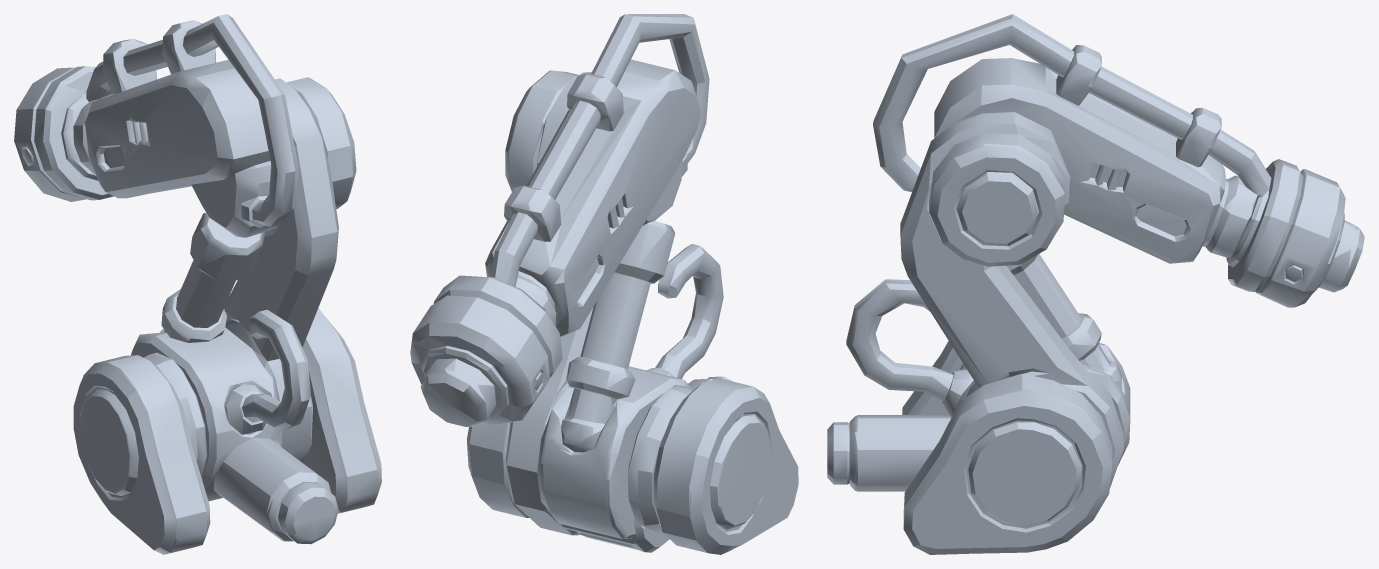
Rendered from Robot arm.fbx.
The picture shows the model from 3 angles, left to right: view 1: azimuth 30°, elevation 25°; view 2: azimuth 150°, elevation 25°; view 3: azimuth 270°, elevation 25°; orthographic projection. The views are drawn at different scales.
Visible parts, largest first — view 1: MeshTransformExportRoot; view 2: MeshTransformExportRoot; view 3: MeshTransformExportRoot.
Boxes of the visible parts, x1,y1,x2,y2 form: MeshTransformExportRoot: [14, 14, 381, 554]; MeshTransformExportRoot: [410, 14, 798, 554]; MeshTransformExportRoot: [827, 14, 1364, 554].
Bounding box in the file's own units: 48.73 × 99.8 × 99.22.
